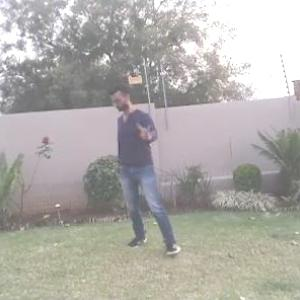takeoff-hand: (130, 112, 157, 142)
